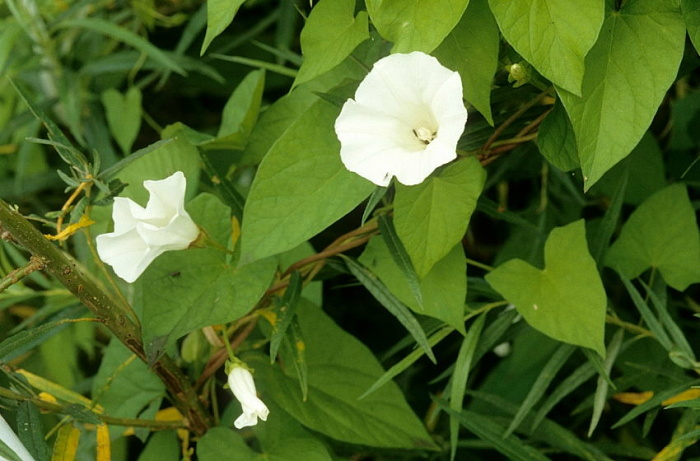haagwinde: (239, 38, 503, 287), (484, 1, 690, 195), (474, 208, 636, 380), (77, 162, 214, 289), (202, 330, 275, 439)
